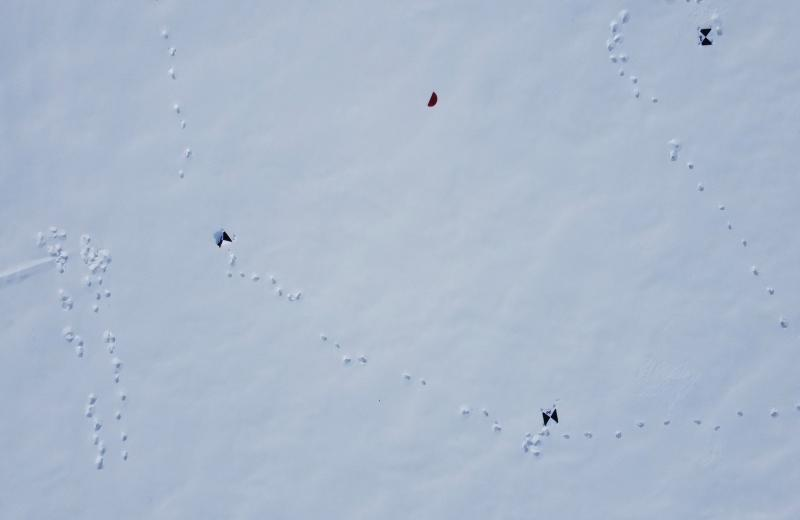Semi Circle: (427, 91, 439, 108)
